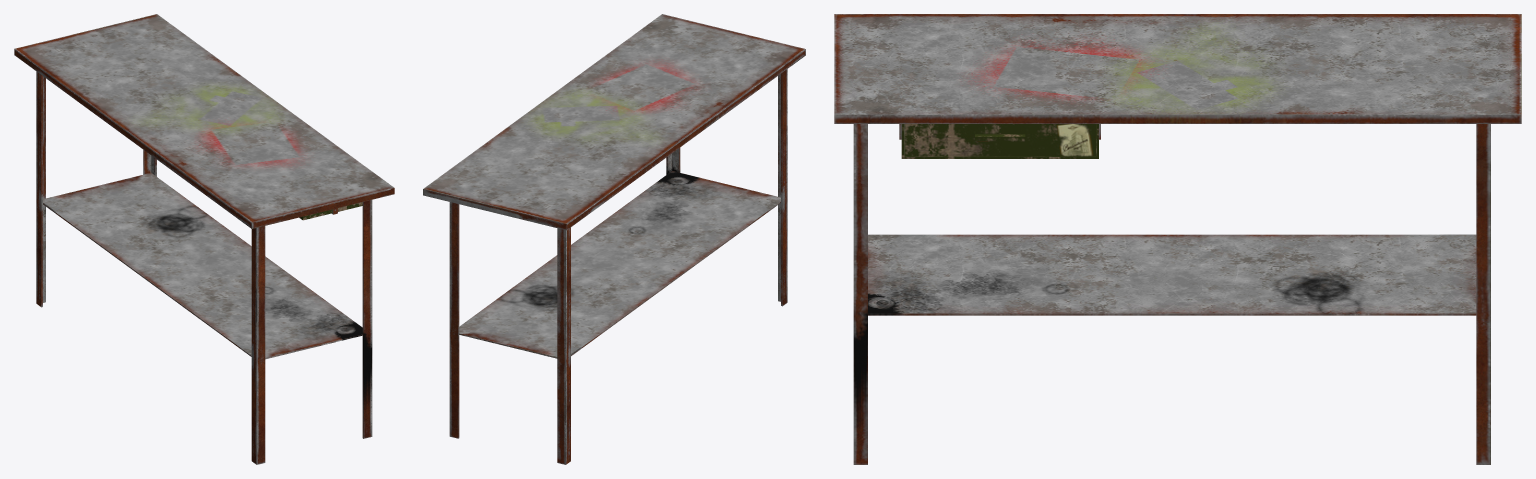
The model's file is garage_table_old_2.glb.
The picture shows the model from 3 angles, left to right: view 1: azimuth 30°, elevation 25°; view 2: azimuth 150°, elevation 25°; view 3: azimuth 270°, elevation 25°; orthographic projection. The views are drawn at different scales.
Visible parts, largest first — view 1: table; view 2: table; view 3: table, drawer.
Part boxes in pixels (x1,y1,x2,y2): table: (14,14,394,464); table: (423,14,805,464); table: (834,14,1521,464); drawer: (904,124,1095,156).
Bounding box in the file's own units: 0.6936 × 1.16 × 2.
Materials: 1 (1 with a texture image).
